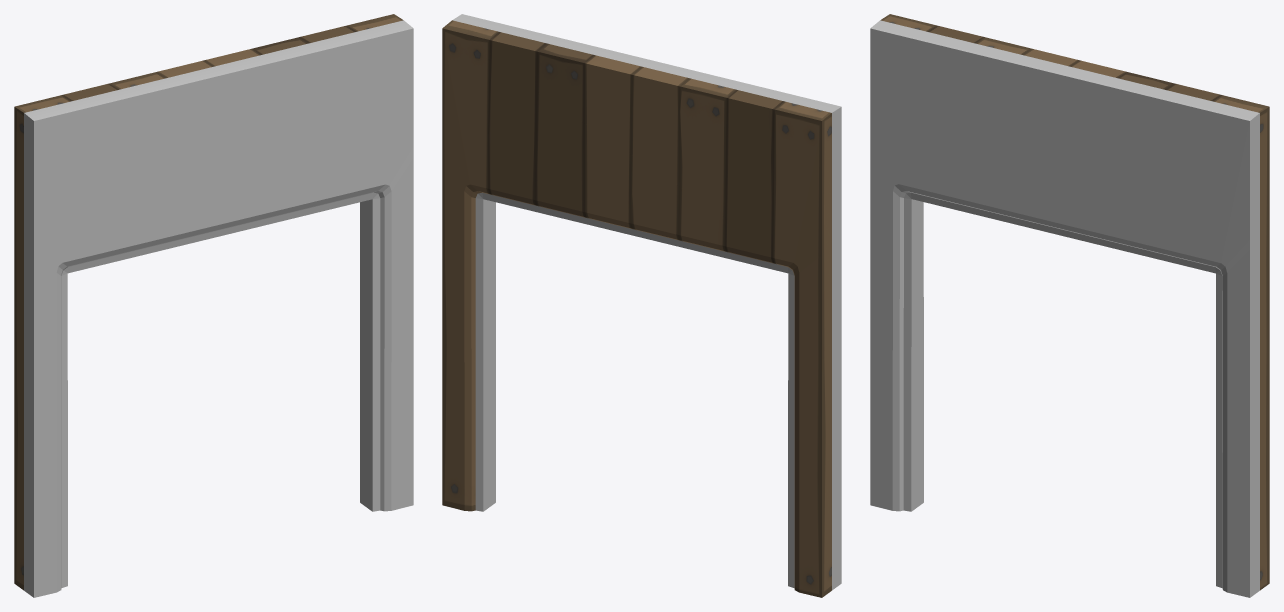
File: SM_Bld_Deco_Wall_Door_Double_03.fbx
3 views of the same model, side by side, from view 1: azimuth 30°, elevation 25°; view 2: azimuth 150°, elevation 25°; view 3: azimuth 330°, elevation 25° (orthographic).
Visible parts, largest first — view 1: SM_Bld_Deco_Wall_Door_Double_03; view 2: SM_Bld_Deco_Wall_Door_Double_03; view 3: SM_Bld_Deco_Wall_Door_Double_03.
Part boxes in pixels (<box>): SM_Bld_Deco_Wall_Door_Double_03: <box>14,14,413,597</box>; SM_Bld_Deco_Wall_Door_Double_03: <box>442,14,841,597</box>; SM_Bld_Deco_Wall_Door_Double_03: <box>870,14,1269,597</box>.
Bounding box in the file's own units: 250 × 301 × 23.21.
